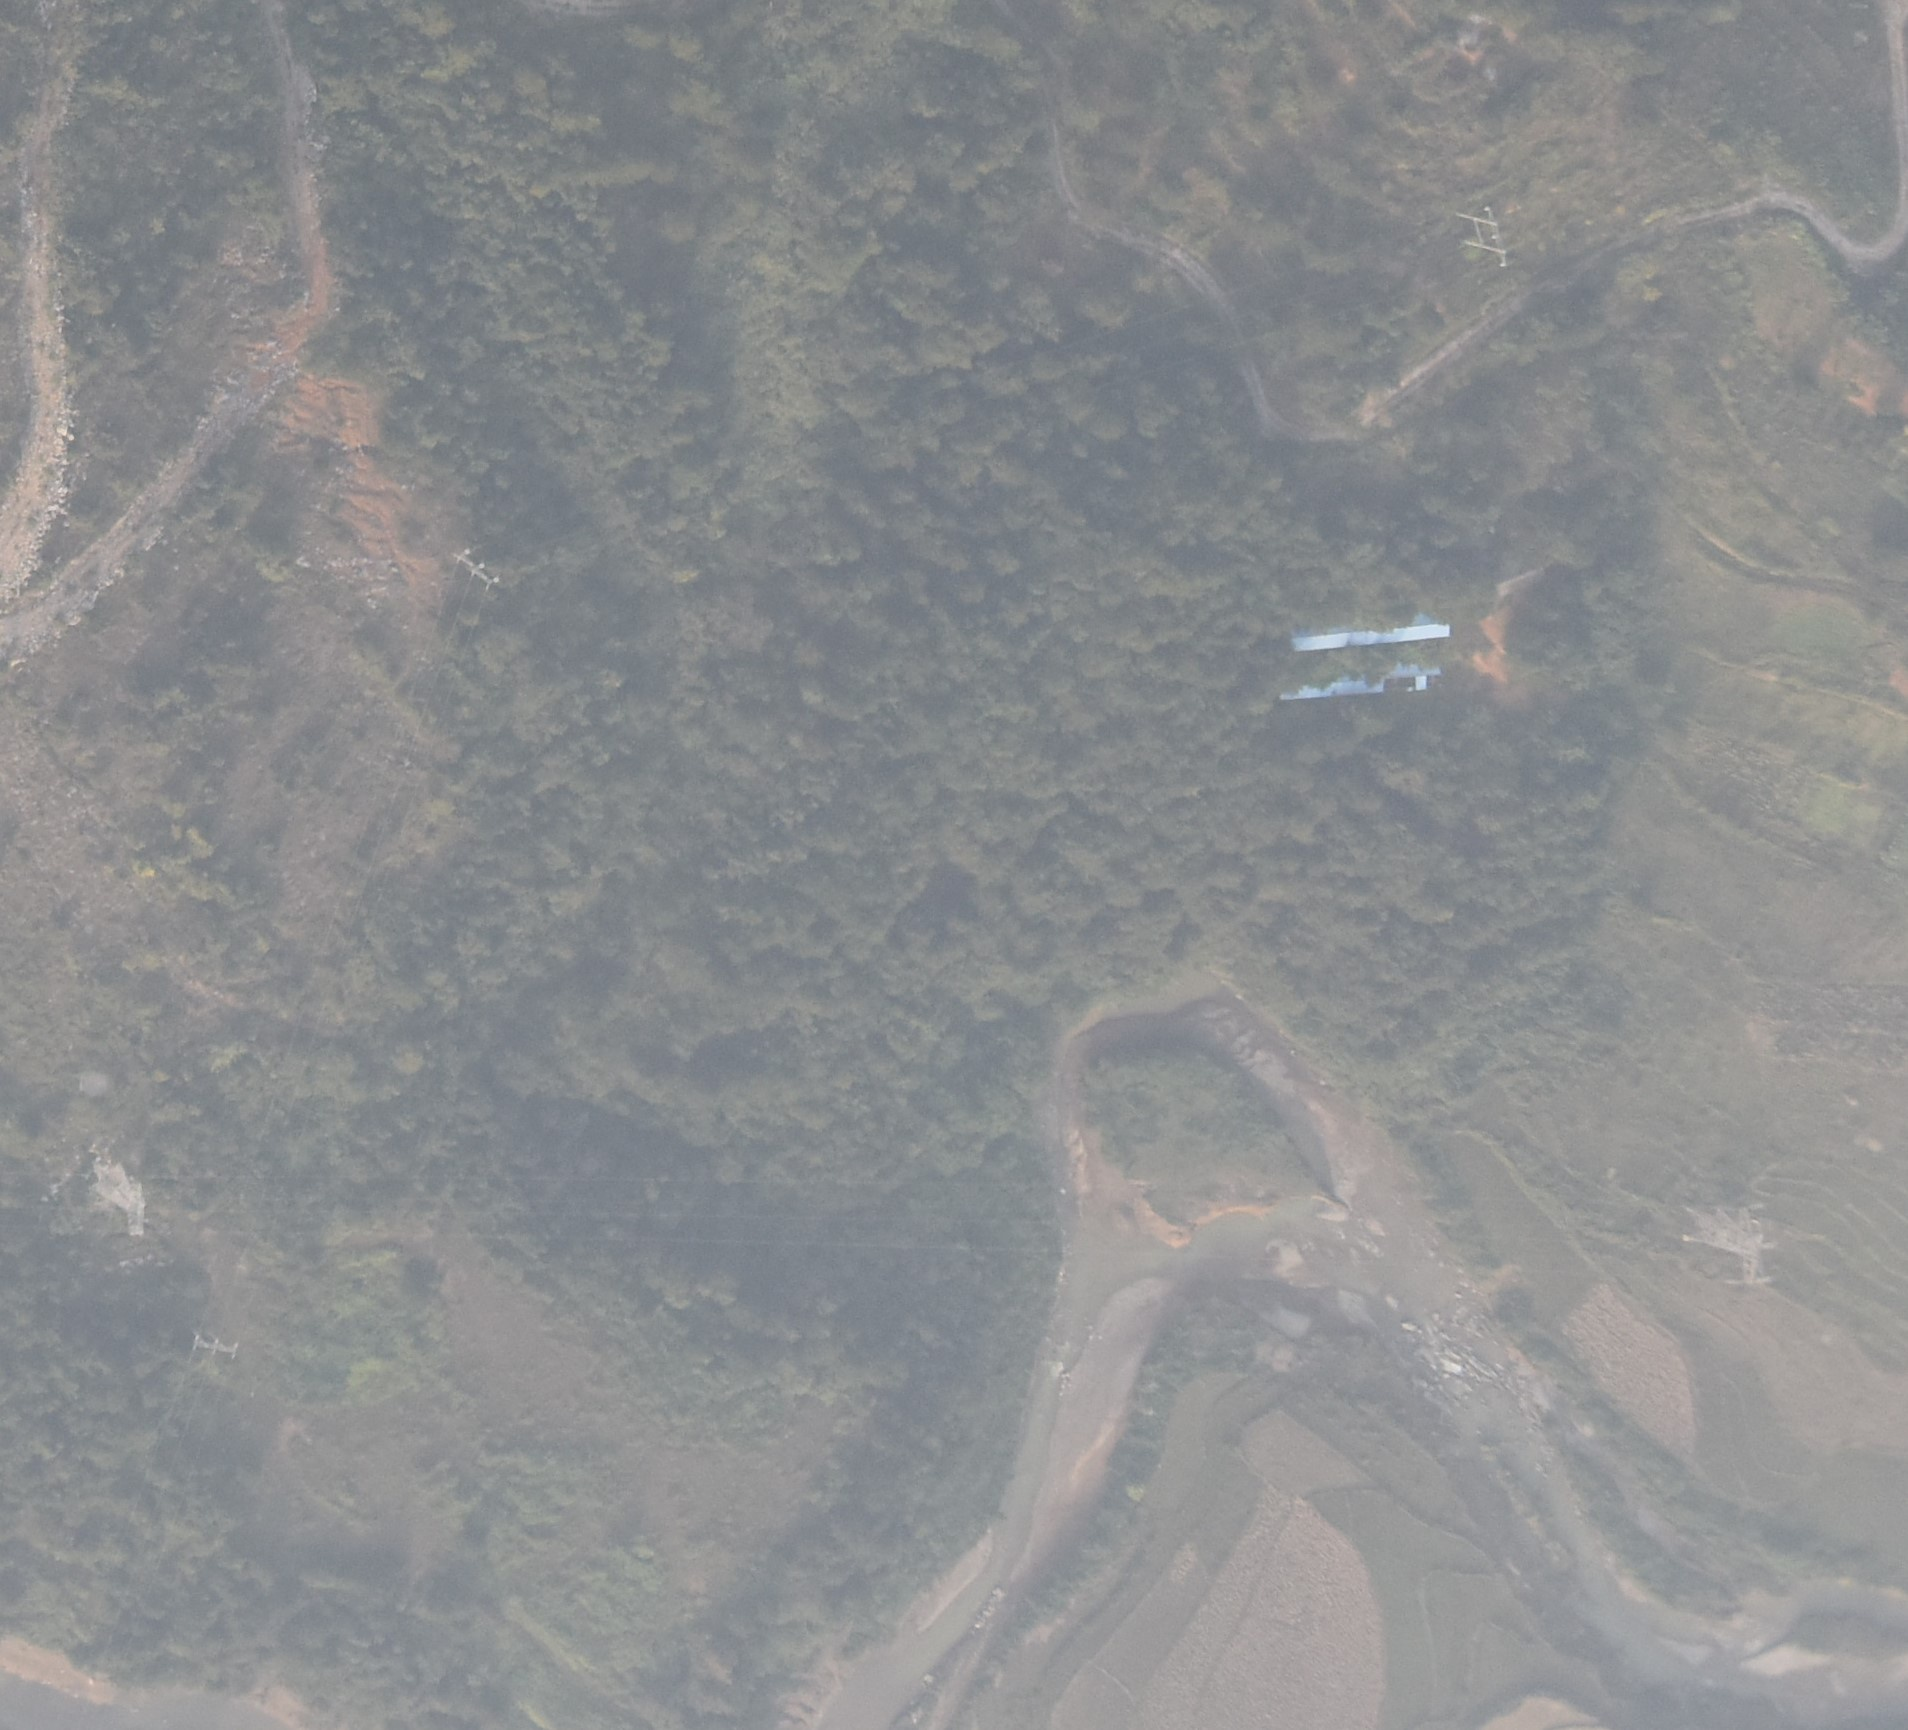cable-tower: (1685, 1195, 1776, 1291), (1429, 183, 1516, 275), (81, 1150, 156, 1244), (436, 541, 508, 603), (185, 1327, 240, 1357)
prefabricated-house: (1264, 650, 1442, 712), (1287, 608, 1461, 655)
